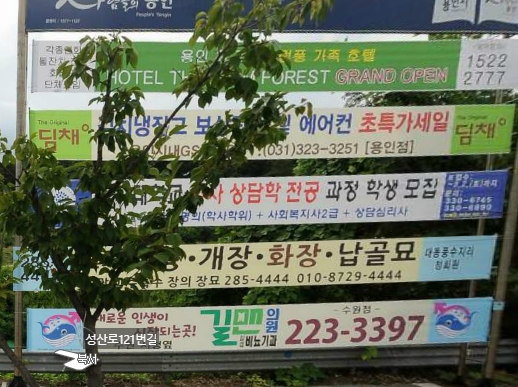banner: (15, 23, 518, 95), (12, 98, 518, 160), (7, 299, 518, 357), (5, 168, 518, 224), (6, 235, 518, 291)
